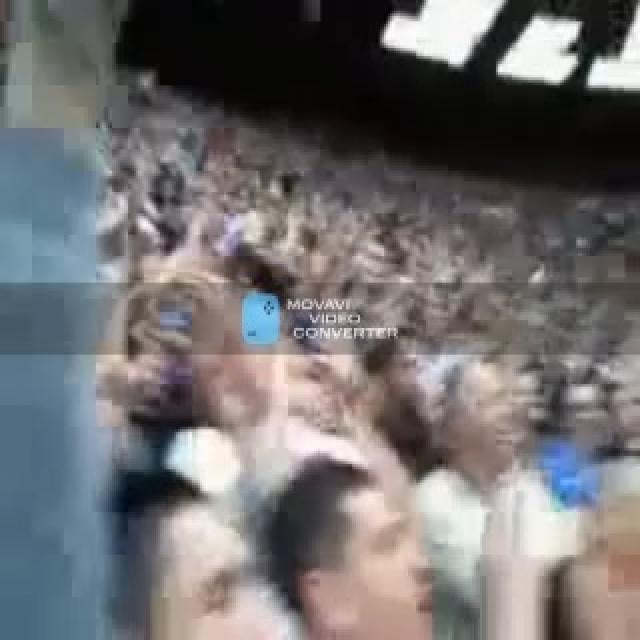non-voilence: (94, 99, 638, 637), (120, 240, 296, 429)
